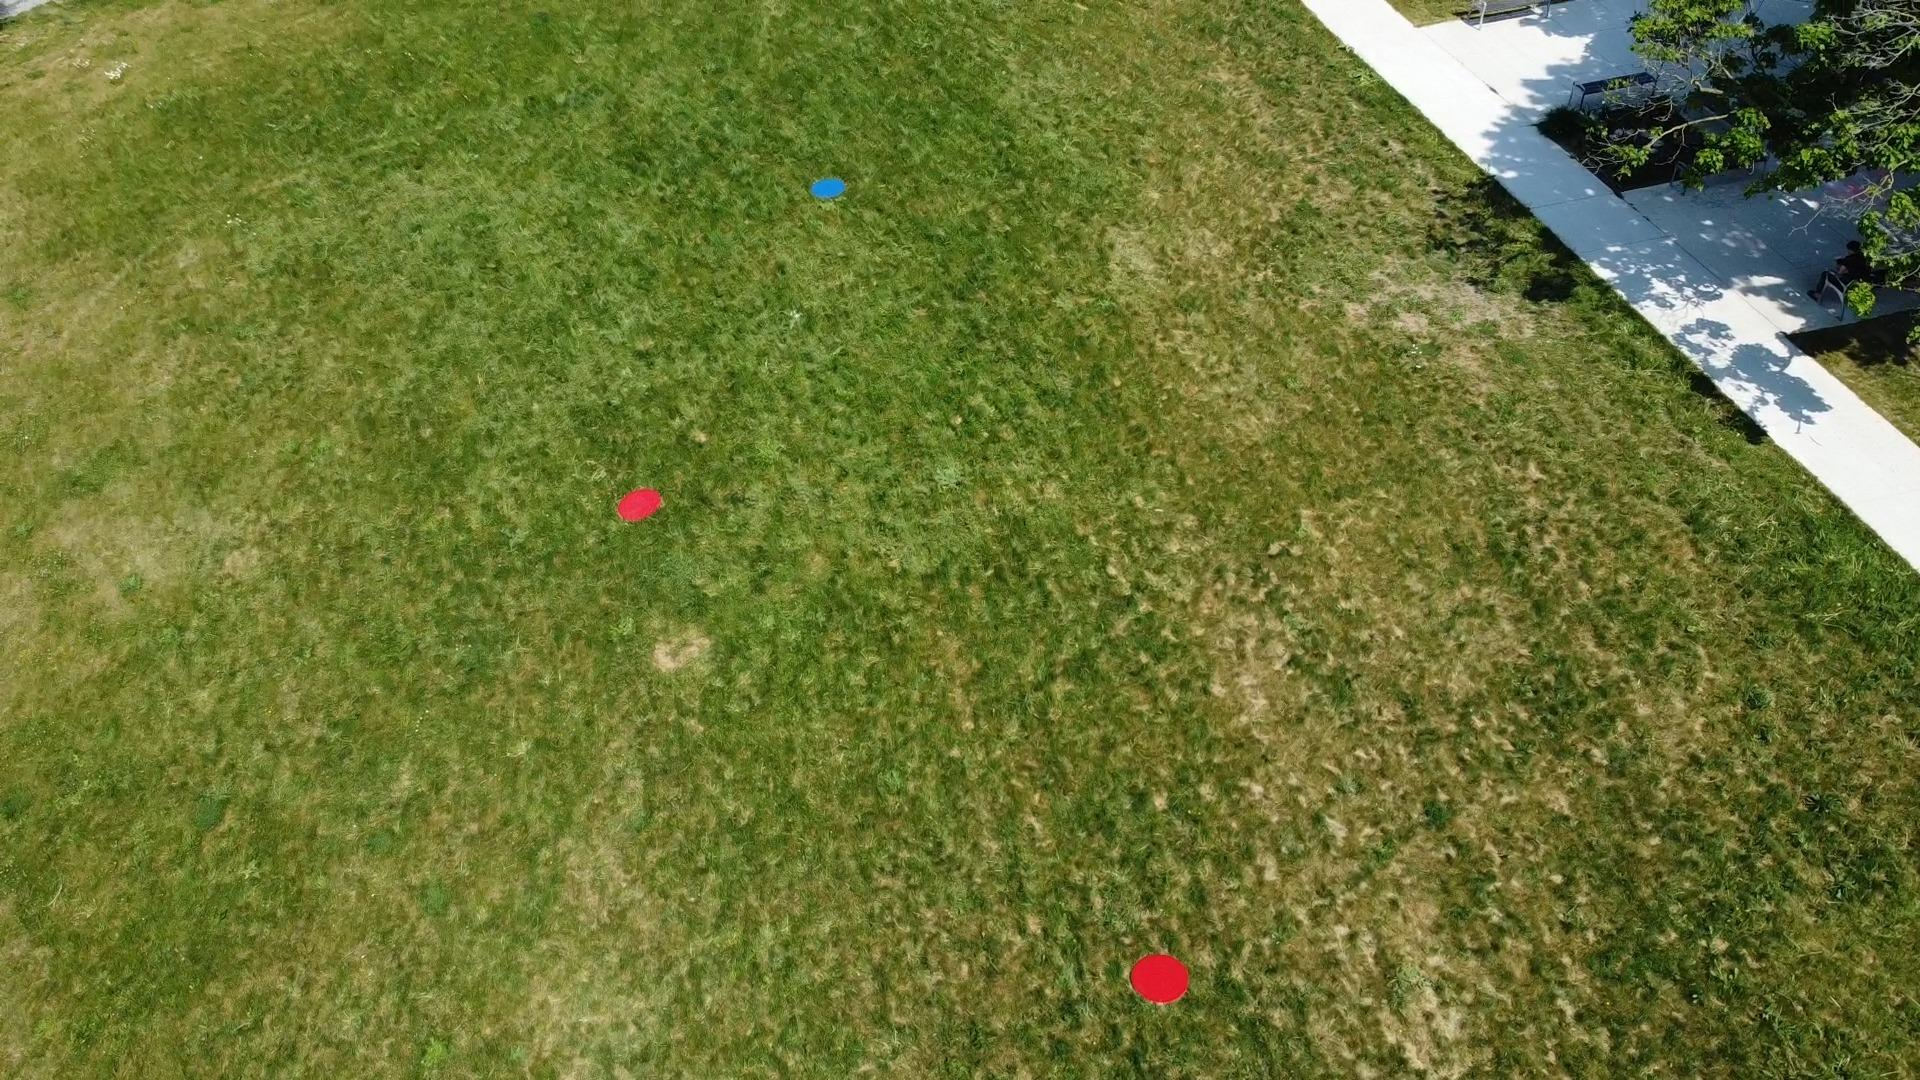Blue: (810, 175, 848, 200)
Red: (616, 487, 665, 524)
